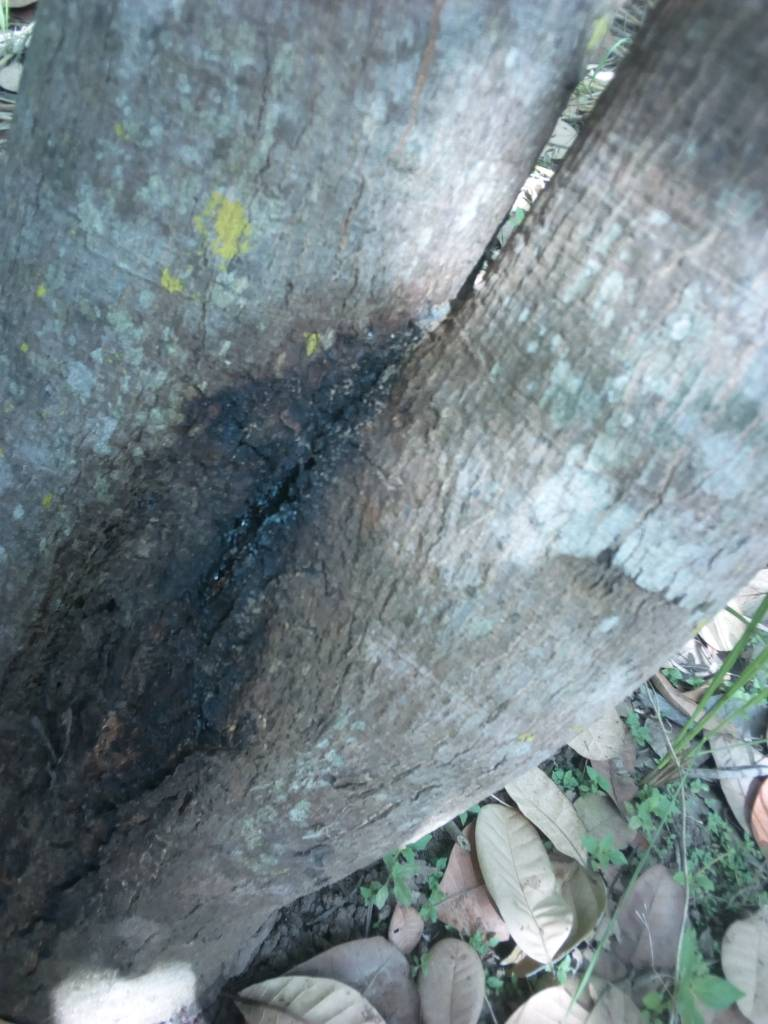Gommose: (10, 363, 363, 928)
